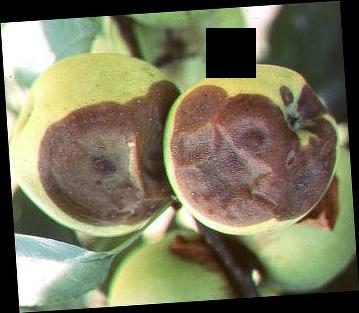rotten apple: (9, 46, 180, 244), (171, 61, 348, 238)
